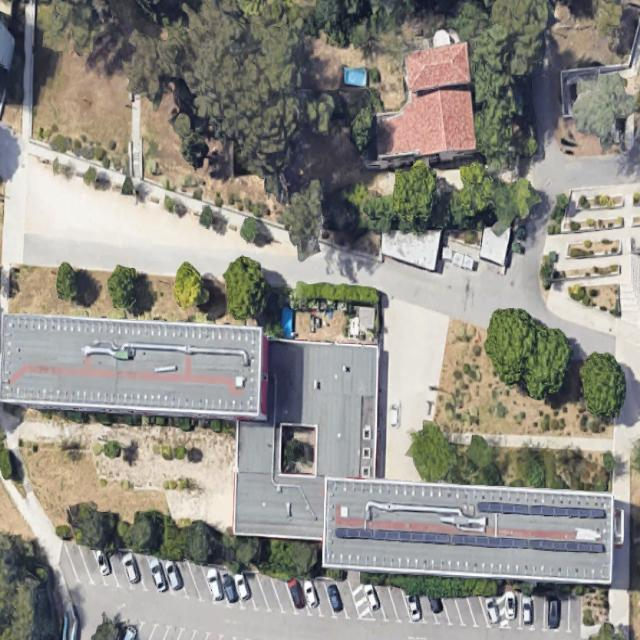immeuble: (320, 477, 616, 585), (232, 339, 385, 542), (0, 312, 271, 421)
maison: (363, 41, 477, 169)
